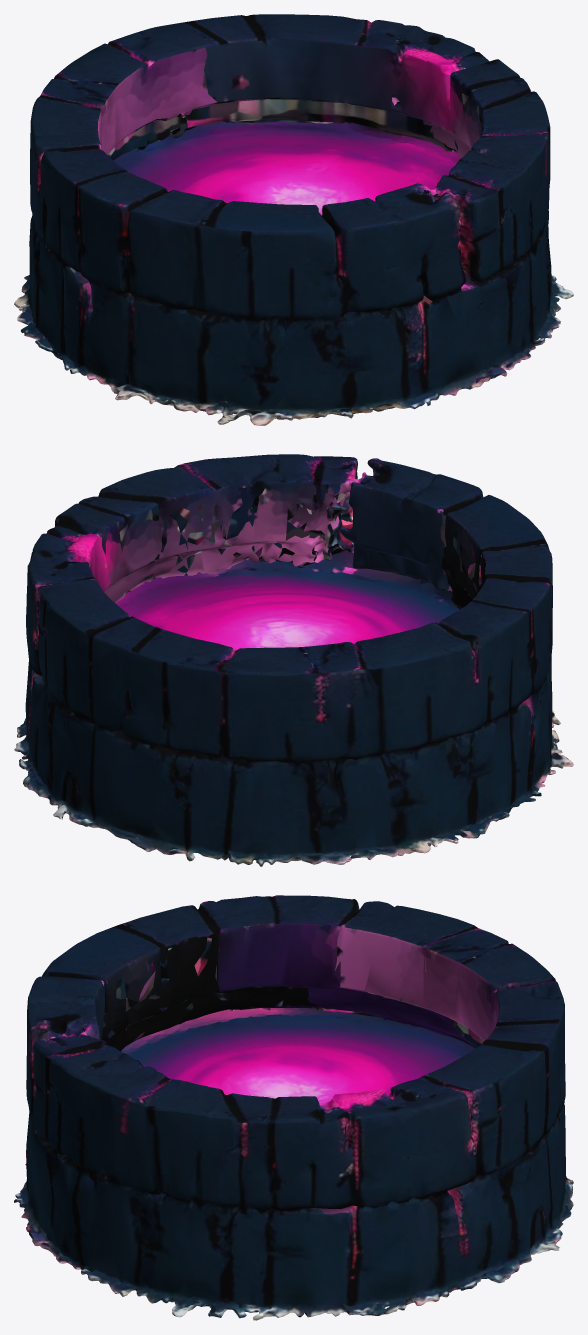
The model's file is well-of-mimir-pool-generated-2026-05-17T18-04-36-850Z.medium.glb.
3 renders of one model, top to bottom at view 1: azimuth 30°, elevation 25°; view 2: azimuth 150°, elevation 25°; view 3: azimuth 270°, elevation 25°, orthographic. The views are drawn at different scales.
Parts seen in each view (by area): view 1: temp_mesh.ply; view 2: temp_mesh.ply; view 3: temp_mesh.ply.
Boxes of the visible parts, left/top/right/bottom form: temp_mesh.ply: left=14, top=14, right=573, bottom=425; temp_mesh.ply: left=14, top=454, right=573, bottom=866; temp_mesh.ply: left=14, top=895, right=573, bottom=1320.
Bounding box in the file's own units: 1.97 × 0.7954 × 1.97.
Materials: 1 (1 with a texture image).
